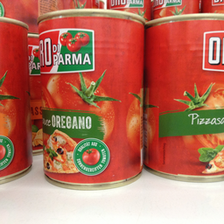tomato_sauce: (37, 9, 147, 190), (145, 13, 224, 182)
